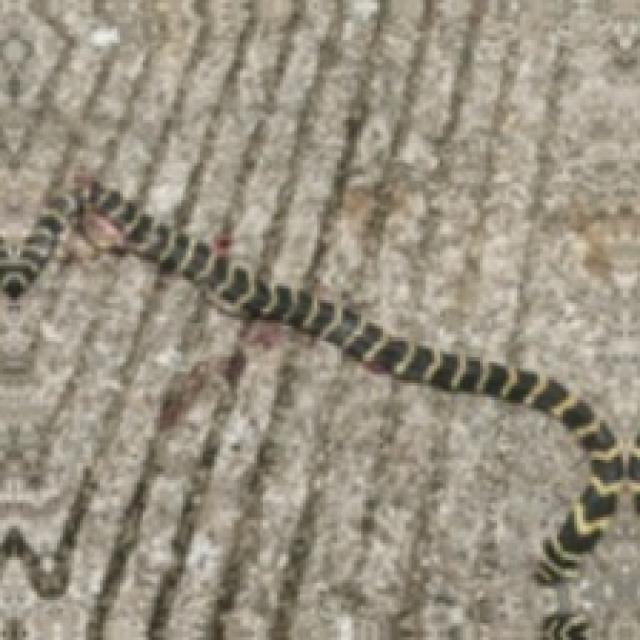king cobra: (0, 183, 637, 637), (0, 180, 637, 583)
